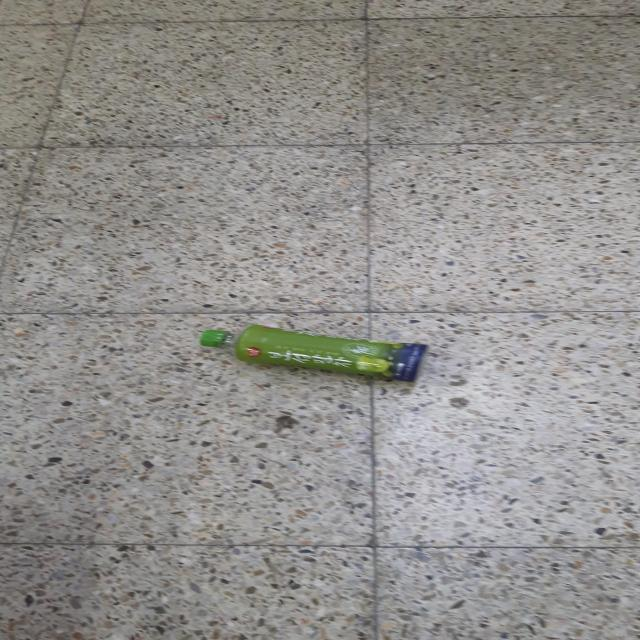litter: (199, 324, 428, 384)
